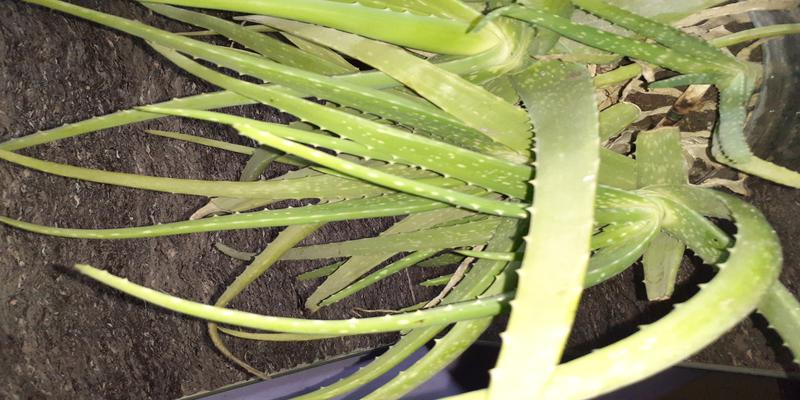Aloevera: (188, 8, 714, 275)
